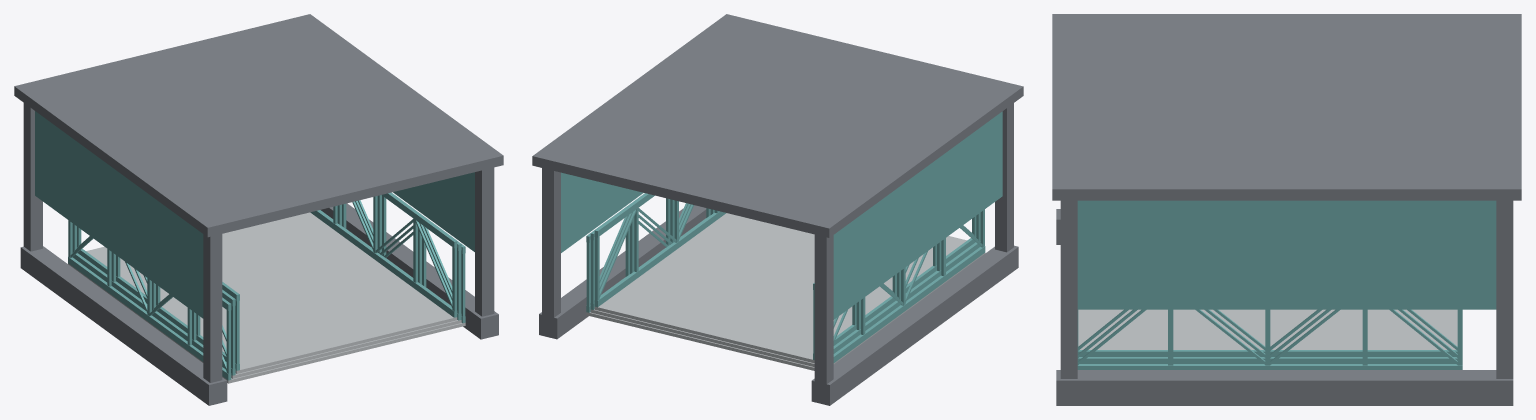
The model's file is telescope_truss.glb.
3 views of the same model, side by side, from view 1: azimuth 30°, elevation 25°; view 2: azimuth 150°, elevation 25°; view 3: azimuth 270°, elevation 25° (orthographic). The views are drawn at different scales.
Parts seen in each view (by area): view 1: bridge, span_a, span_c, span_b; view 2: bridge, span_a, span_c, span_b; view 3: bridge, span_a, span_c, span_b.
Boxes of the visible parts, left/top/right/bottom form: bridge: left=14, top=14, right=503, bottom=405; span_a: left=77, top=192, right=457, bottom=373; span_c: left=68, top=193, right=465, bottom=383; span_b: left=72, top=192, right=461, bottom=378; bridge: left=532, top=14, right=1023, bottom=405; span_a: left=594, top=193, right=976, bottom=363; span_c: left=586, top=193, right=985, bottom=370; span_b: left=590, top=193, right=980, bottom=366; bridge: left=1052, top=14, right=1521, bottom=405; span_a: left=1078, top=309, right=1457, bottom=356; span_c: left=1077, top=309, right=1462, bottom=369; span_b: left=1078, top=309, right=1457, bottom=363.
Bounding box in the file's own units: 4.9 × 2.85 × 5.55.
